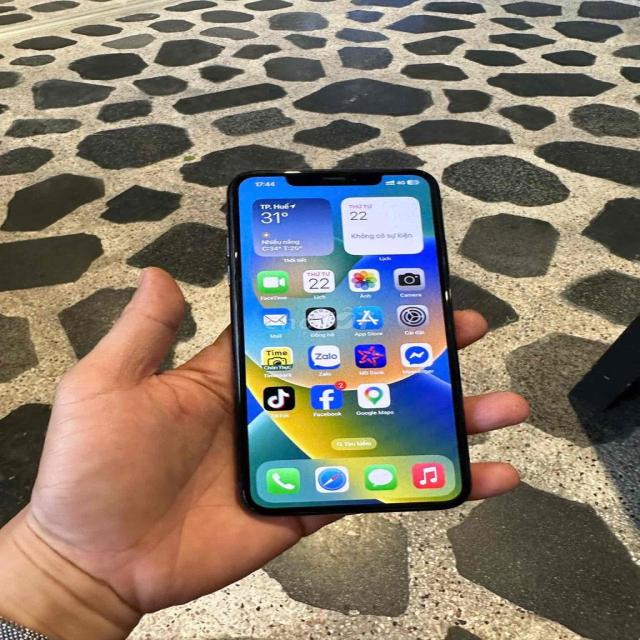gen_11: (215, 162, 479, 516)
